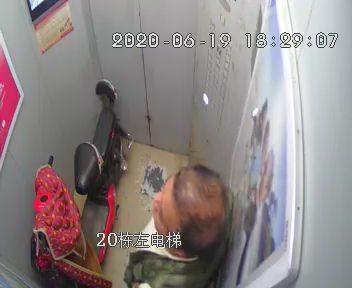Electric-bicycle: (29, 73, 121, 285)
